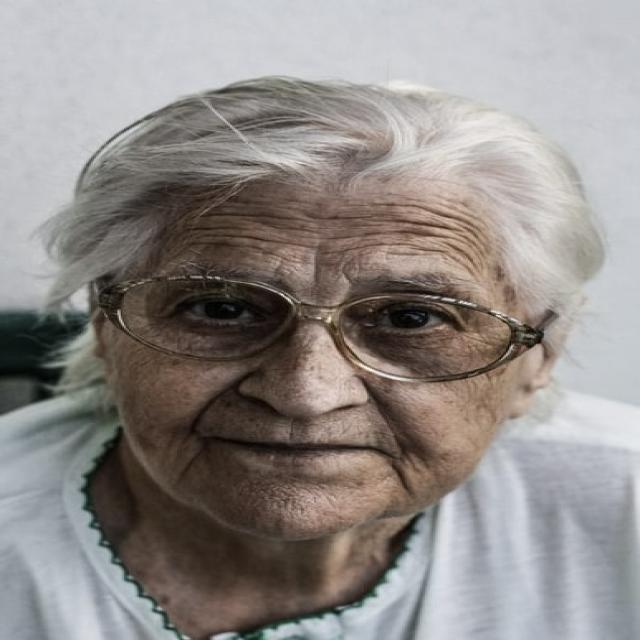Wrinkles: (207, 234, 322, 247), (330, 233, 470, 243), (376, 221, 461, 230), (252, 246, 286, 260), (207, 216, 290, 220), (398, 244, 446, 250), (444, 242, 465, 255), (350, 245, 393, 250), (465, 255, 476, 270), (389, 253, 418, 255), (321, 252, 347, 253), (311, 218, 368, 218)
